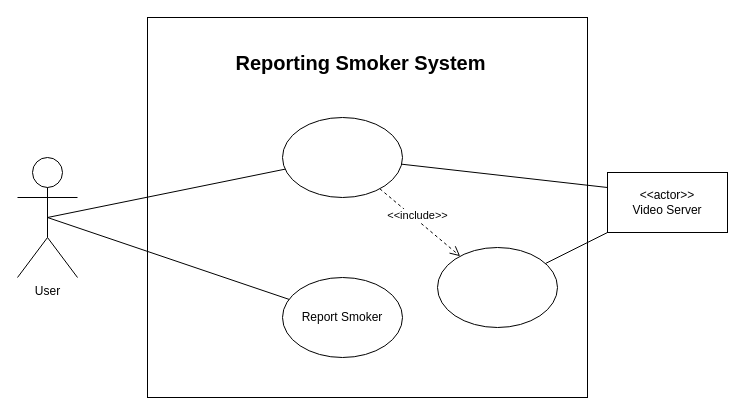
The diagram is 745 pixels wide and 415 high, and some of its shapes have lost their labels. The shapes that lost their labels are listed below. From the top down, each one's centre as x and y in pixels, then its label:
At pixel 342 157: "Receive Alert".
At pixel 497 287: "Determine Smoker or Not".
